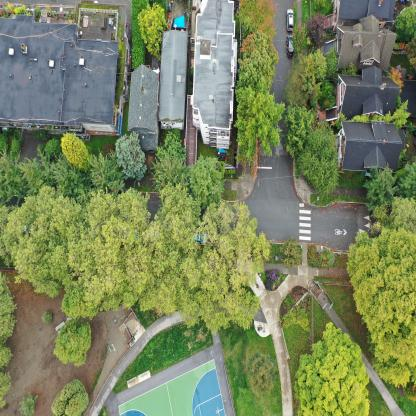Coniferous Tree: (298, 127, 336, 194), (244, 348, 278, 401), (189, 158, 228, 198), (86, 155, 124, 195), (115, 134, 146, 180), (49, 382, 90, 416), (152, 152, 183, 195), (51, 161, 86, 196), (363, 174, 394, 212), (0, 158, 26, 189), (20, 159, 45, 190), (20, 393, 40, 416), (42, 308, 52, 324)
Deciduous Tree: (348, 232, 416, 387), (192, 204, 263, 330), (293, 329, 374, 416), (87, 198, 145, 316), (0, 190, 59, 297), (150, 188, 192, 317), (236, 89, 282, 168), (58, 195, 86, 314), (58, 320, 90, 367), (138, 6, 166, 56), (61, 134, 89, 164), (394, 200, 416, 229)
